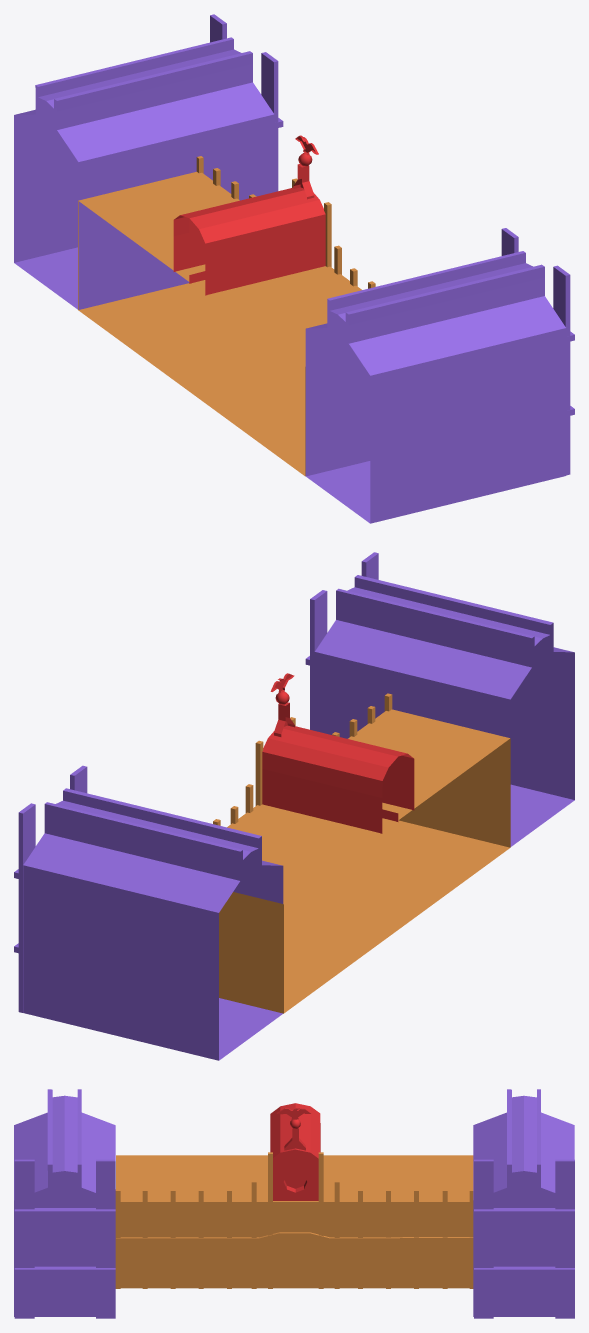
The model's file is estacionord.fbx.
The picture shows the model from 3 angles, top to bottom: view 1: azimuth 30°, elevation 25°; view 2: azimuth 150°, elevation 25°; view 3: azimuth 270°, elevation 25°; orthographic projection. The views are drawn at different scales.
Visible parts, largest first — view 1: Cube.026, Cube.027, Cube.024, Cube.022, Cube.015, Cube.016; view 2: Cube.027, Cube.024, Cube.026, Cube.022, Cube.017, Cube.020; view 3: Cube.024, Cube.027, Cube.026, Cube.022, Cube.015, Cube.016, Cube.017, Cube.020, Cube.023, Cube.021, Cube.018, Cube.001 (+15 smaller).
Part boxes in pixels (x1,y1,x2,y2): Cube.026: [305, 251, 566, 523]; Cube.027: [14, 37, 274, 309]; Cube.024: [78, 171, 361, 476]; Cube.022: [173, 187, 325, 295]; Cube.015: [553, 265, 570, 475]; Cube.016: [261, 52, 278, 191]; Cube.027: [23, 788, 283, 1060]; Cube.024: [219, 709, 510, 1013]; Cube.026: [314, 575, 574, 846]; Cube.022: [262, 726, 414, 833]; Cube.017: [18, 803, 35, 1012]; Cube.020: [310, 590, 327, 730]; Cube.024: [116, 1155, 473, 1288]; Cube.027: [473, 1089, 574, 1316]; Cube.026: [14, 1089, 115, 1316]; Cube.022: [270, 1103, 320, 1200]; Cube.015: [14, 1159, 34, 1318]; Cube.016: [474, 1159, 493, 1318]; Cube.017: [555, 1159, 574, 1318]; Cube.020: [96, 1159, 115, 1318]; Cube.023: [116, 1232, 473, 1242]; Cube.021: [14, 1266, 115, 1274]; Cube.018: [474, 1266, 574, 1274]; Cube.001: [318, 1152, 323, 1288].
Size of the model in its own units: 2306 by 2399 by 6876.
